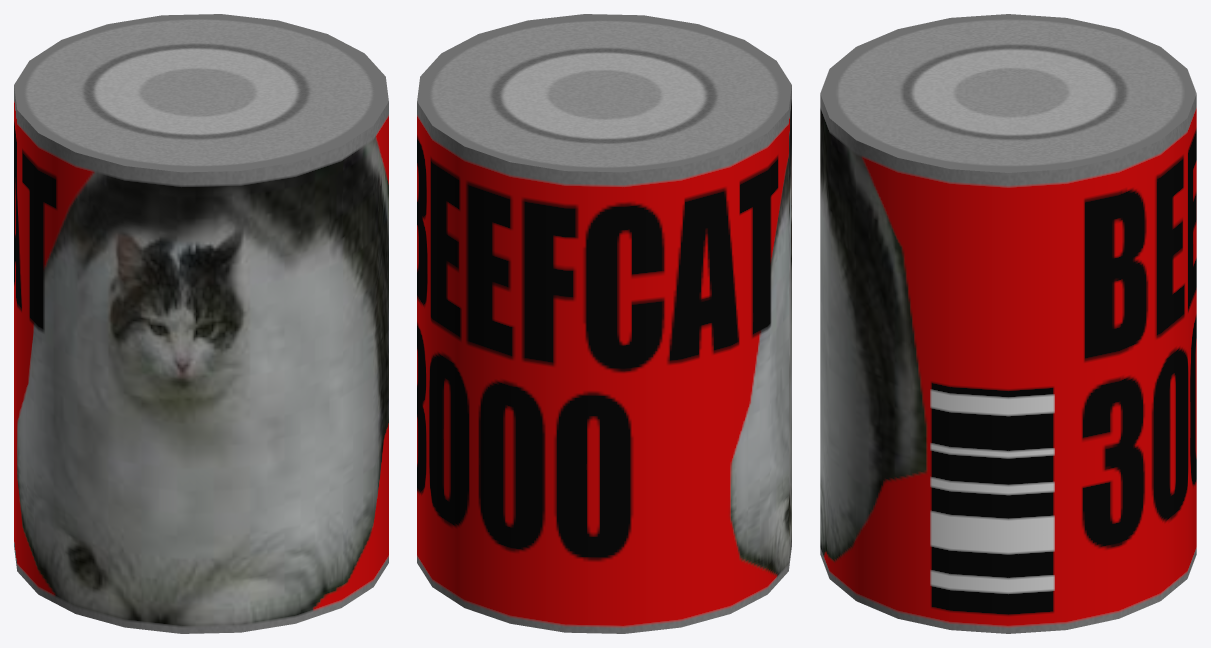
The model's file is Tin_Can_CatFood.fbx.
The picture shows the model from 3 angles, left to right: view 1: azimuth 30°, elevation 25°; view 2: azimuth 150°, elevation 25°; view 3: azimuth 270°, elevation 25°; orthographic projection.
Visible parts, largest first — view 1: pCylinder1; view 2: pCylinder1; view 3: pCylinder1.
Part boxes in pixels (<box>): pCylinder1: <box>14,14,388,633</box>; pCylinder1: <box>417,14,791,633</box>; pCylinder1: <box>820,14,1196,633</box>.
Size of the model in its own units: 20 by 27.02 by 20.
1 material, 1 textured.
